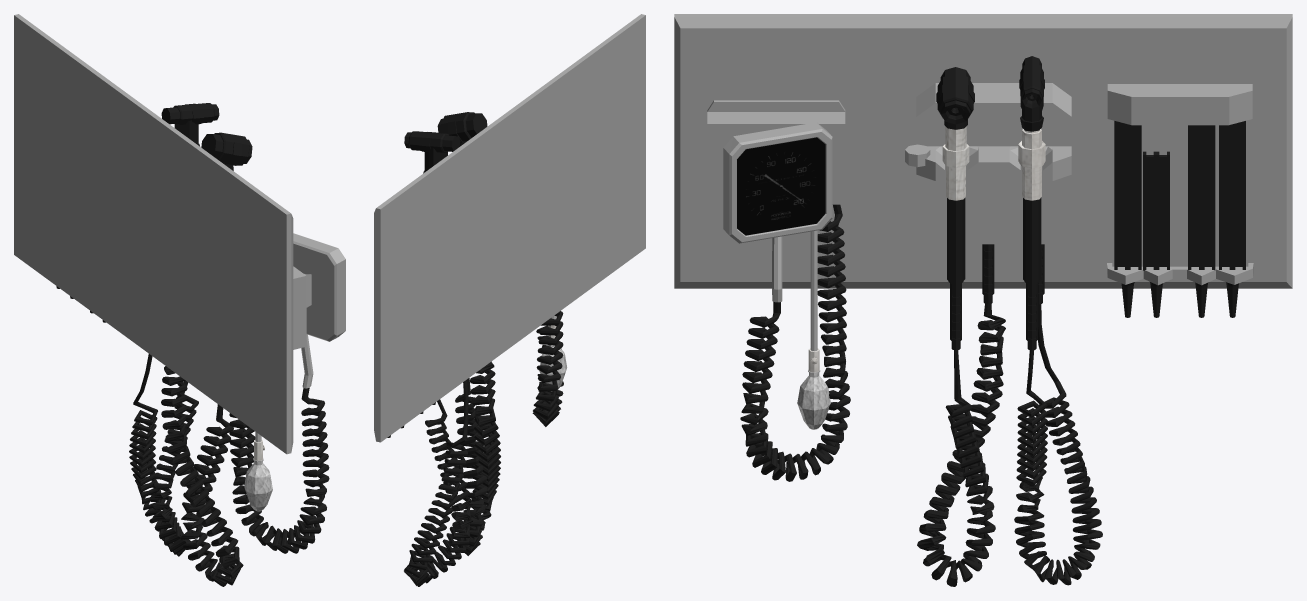
File: Wall Tools.fbx
3 views of the same model, side by side, from view 1: azimuth 30°, elevation 25°; view 2: azimuth 150°, elevation 25°; view 3: azimuth 270°, elevation 25° (orthographic). The views are drawn at different scales.
Visible parts, largest first — view 1: Wall Tools.Shape; view 2: Wall Tools.Shape; view 3: Wall Tools.Shape.
Part boxes in pixels (x1,y1,x2,y2): Wall Tools.Shape: (14, 14, 345, 586); Wall Tools.Shape: (374, 14, 645, 586); Wall Tools.Shape: (674, 14, 1292, 586).
Bounding box in the file's own units: 14.43 × 75.29 × 78.08.
Materials: 9 (3 with a texture image).
